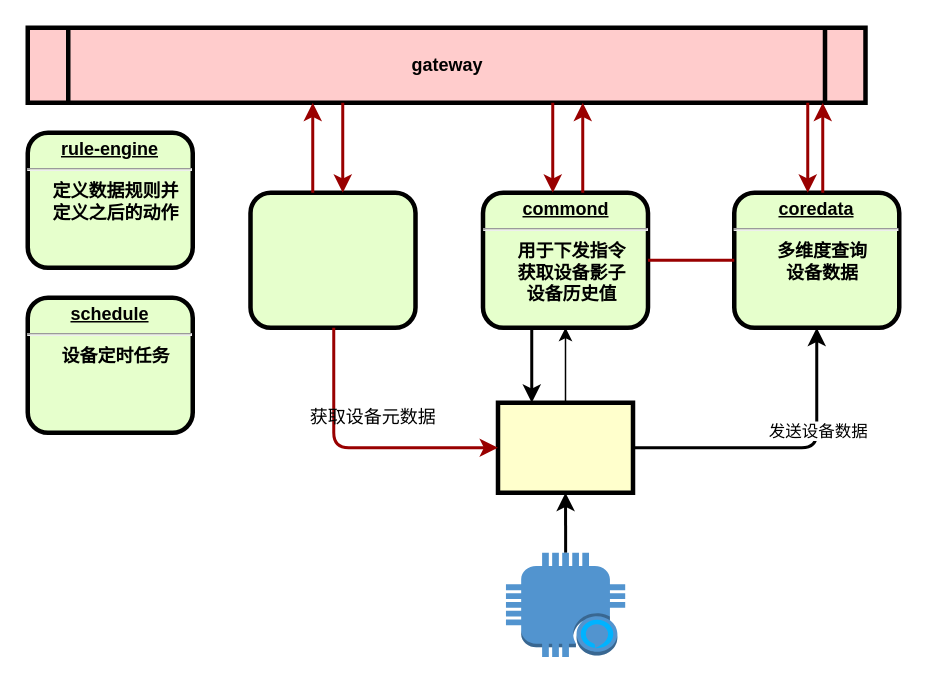
This 927x684 diagram has some shape labels left out. The box of each missing label's shape, as (x1, y1, x2, y2) in pixels:
metadata 定义model 添加设备: (248, 190, 417, 329)
Modbus-service: (495, 400, 634, 494)
